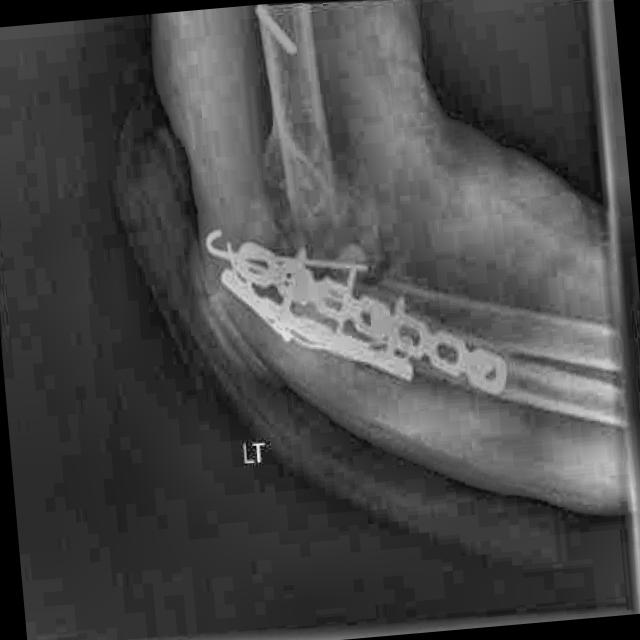elbow positive: (269, 187, 387, 357)
